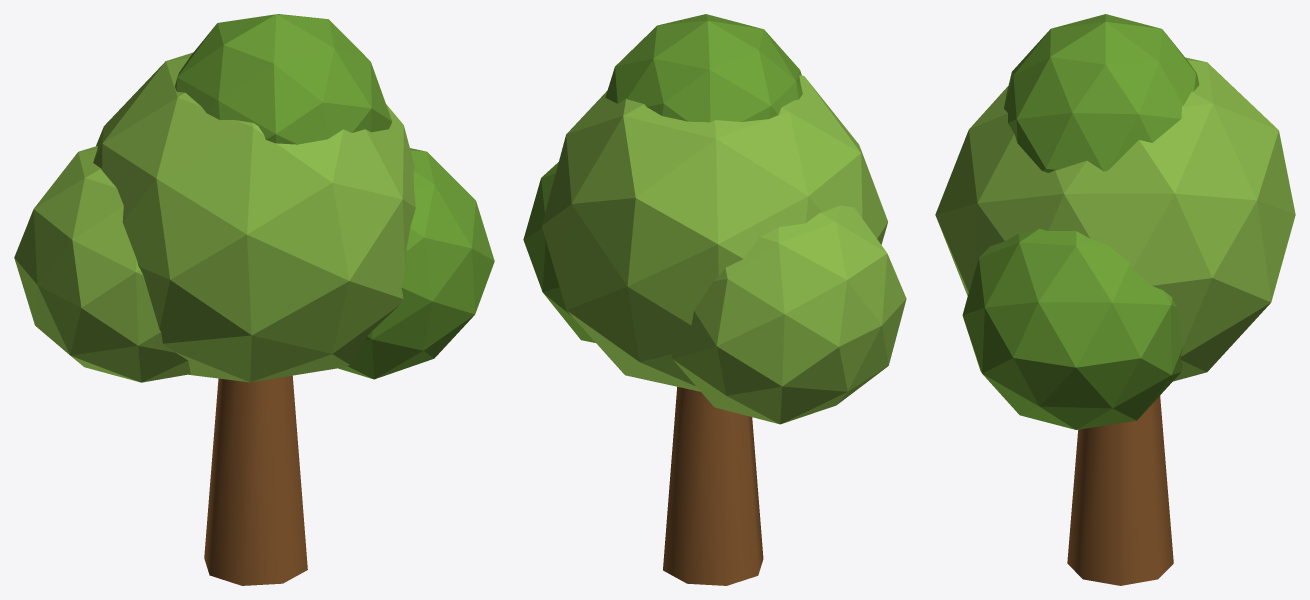
File: tree_round.glb
The picture shows the model from 3 angles, left to right: view 1: azimuth 30°, elevation 25°; view 2: azimuth 150°, elevation 25°; view 3: azimuth 270°, elevation 25°; orthographic projection. The views are drawn at different scales.
Visible parts, largest first — view 1: tree_round_mesh; view 2: tree_round_mesh; view 3: tree_round_mesh.
Boxes of the visible parts, x1,y1,x2,y2 form: tree_round_mesh: (14, 14, 494, 585); tree_round_mesh: (523, 14, 906, 585); tree_round_mesh: (935, 14, 1295, 585).
Size of the model in its own units: 3.11 by 4.09 by 2.44.
